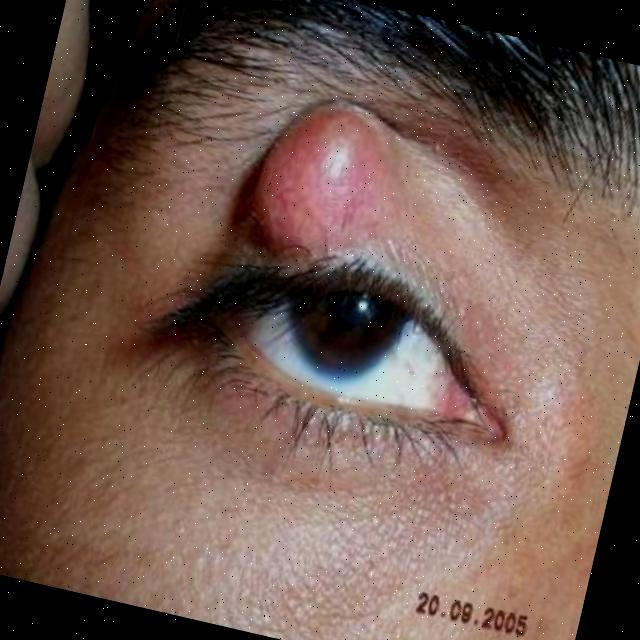Stye: (208, 78, 447, 332)
